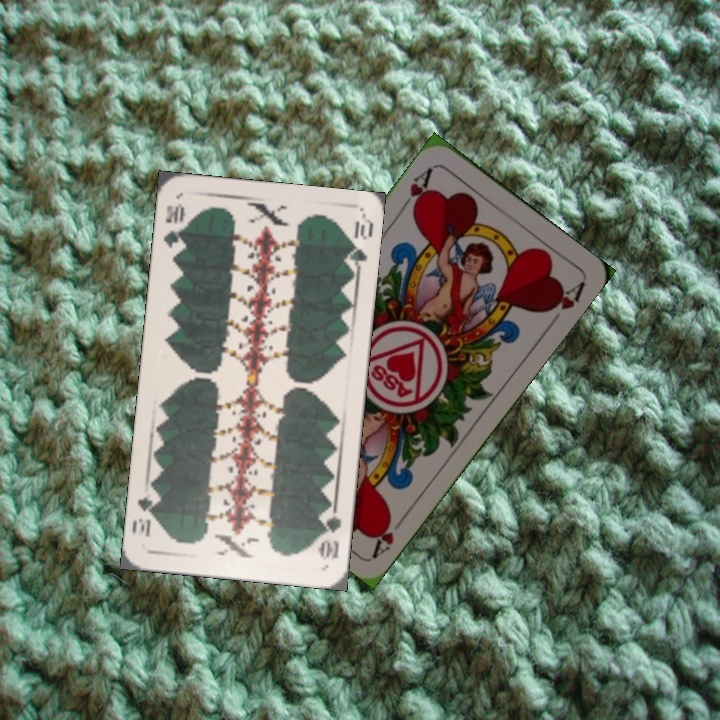G10: (315, 503, 344, 563), (159, 199, 188, 251)
HA: (368, 507, 411, 559), (396, 163, 436, 216)
